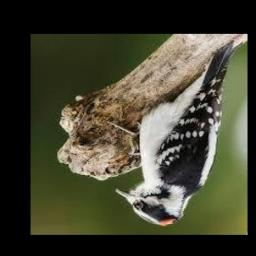Woodpecker: (106, 41, 242, 227)
